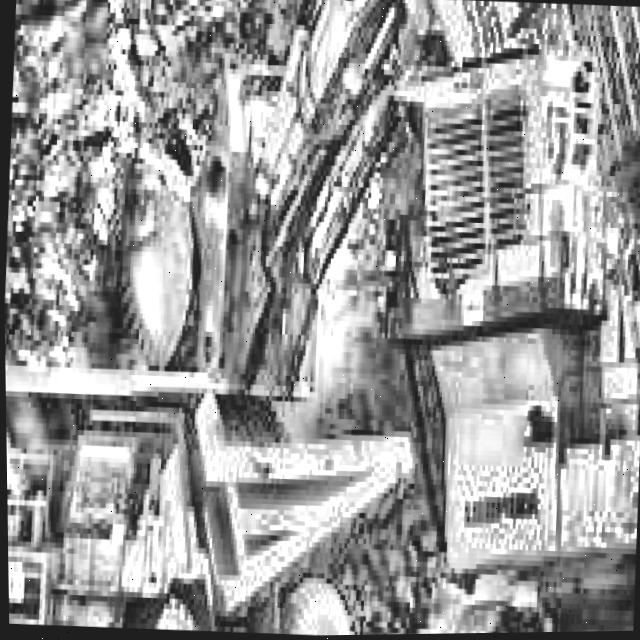dump_truck: (3, 294, 374, 640)
excavator: (89, 0, 640, 639)
